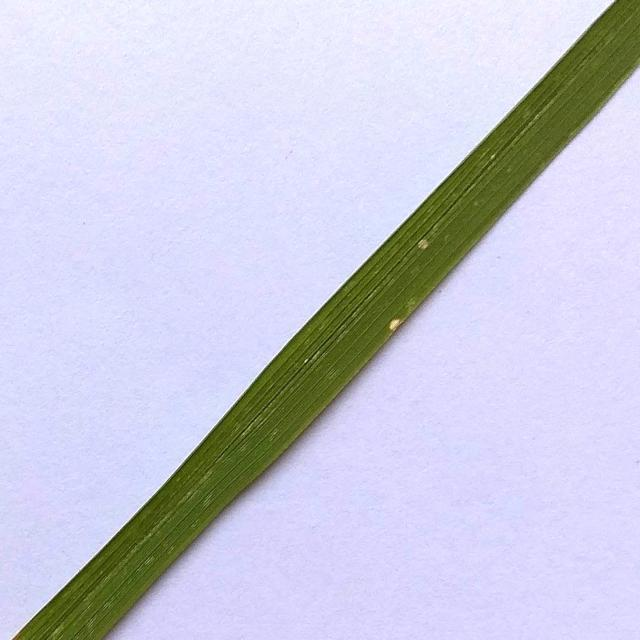Blast: (416, 236, 436, 260), (387, 317, 402, 332)
